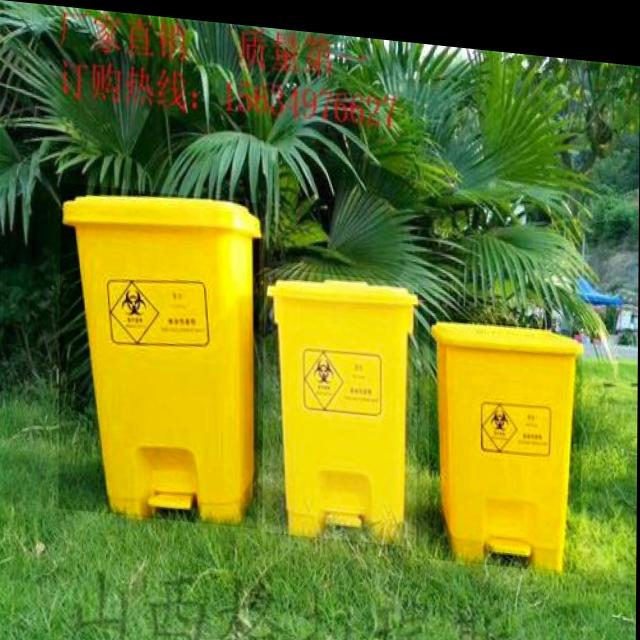garbage_bin: (59, 181, 260, 523), (263, 262, 418, 538), (429, 306, 582, 562)
